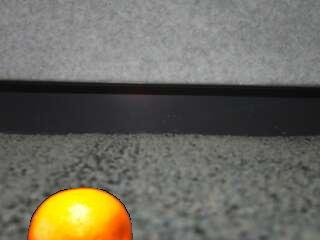Orange: (26, 186, 133, 240)
